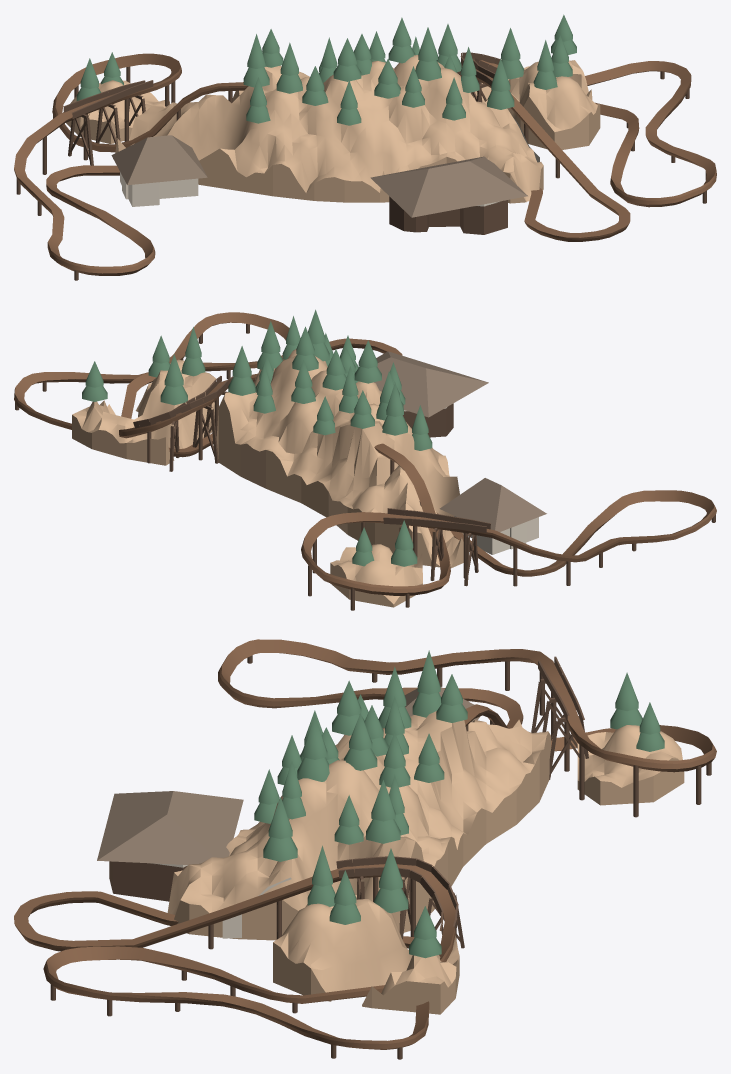
The picture shows the model from 3 angles, top to bottom: view 1: azimuth 30°, elevation 25°; view 2: azimuth 150°, elevation 25°; view 3: azimuth 270°, elevation 25°; orthographic projection. The views are drawn at different scales.
Visible parts, largest first — view 1: seven-dwarfs-mine-train-walt-disney-world; view 2: seven-dwarfs-mine-train-walt-disney-world; view 3: seven-dwarfs-mine-train-walt-disney-world.
Boxes of the visible parts, box(x1,y1,x2,y2) form: seven-dwarfs-mine-train-walt-disney-world: box(14, 14, 716, 280); seven-dwarfs-mine-train-walt-disney-world: box(14, 309, 716, 610); seven-dwarfs-mine-train-walt-disney-world: box(14, 639, 716, 1059).
Size of the model in its own units: 126 by 25.92 by 92.32.
